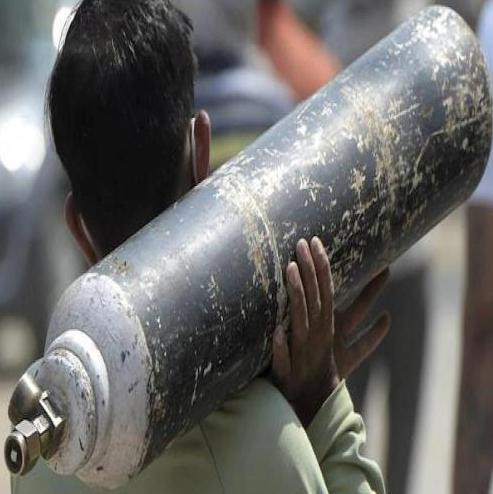cylinder: (1, 0, 493, 494)
